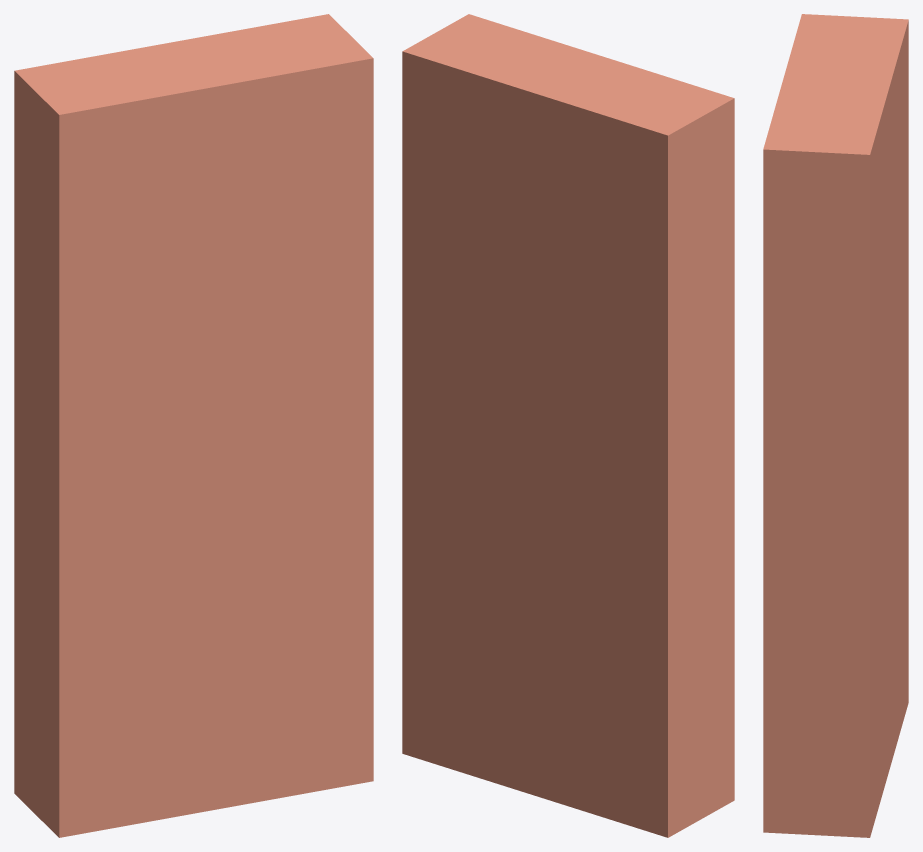
Rendered from blender-access-check.glb.
The picture shows the model from 3 angles, left to right: view 1: azimuth 30°, elevation 25°; view 2: azimuth 150°, elevation 25°; view 3: azimuth 270°, elevation 25°; orthographic projection. The views are drawn at different scales.
Parts seen in each view (by area): view 1: Compunube_Access_Check; view 2: Compunube_Access_Check; view 3: Compunube_Access_Check.
Part boxes in pixels (x1=…): Compunube_Access_Check: x1=14, y1=14, x2=373, y2=837; Compunube_Access_Check: x1=402, y1=14, x2=734, y2=837; Compunube_Access_Check: x1=763, y1=14, x2=908, y2=837.
Size of the model in its own units: 0.6196 by 1.4 by 0.2704.
